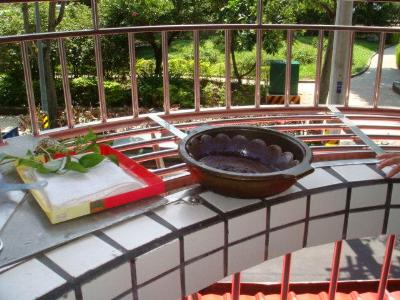bowl: (178, 123, 314, 199)
plate: (12, 142, 165, 225)
